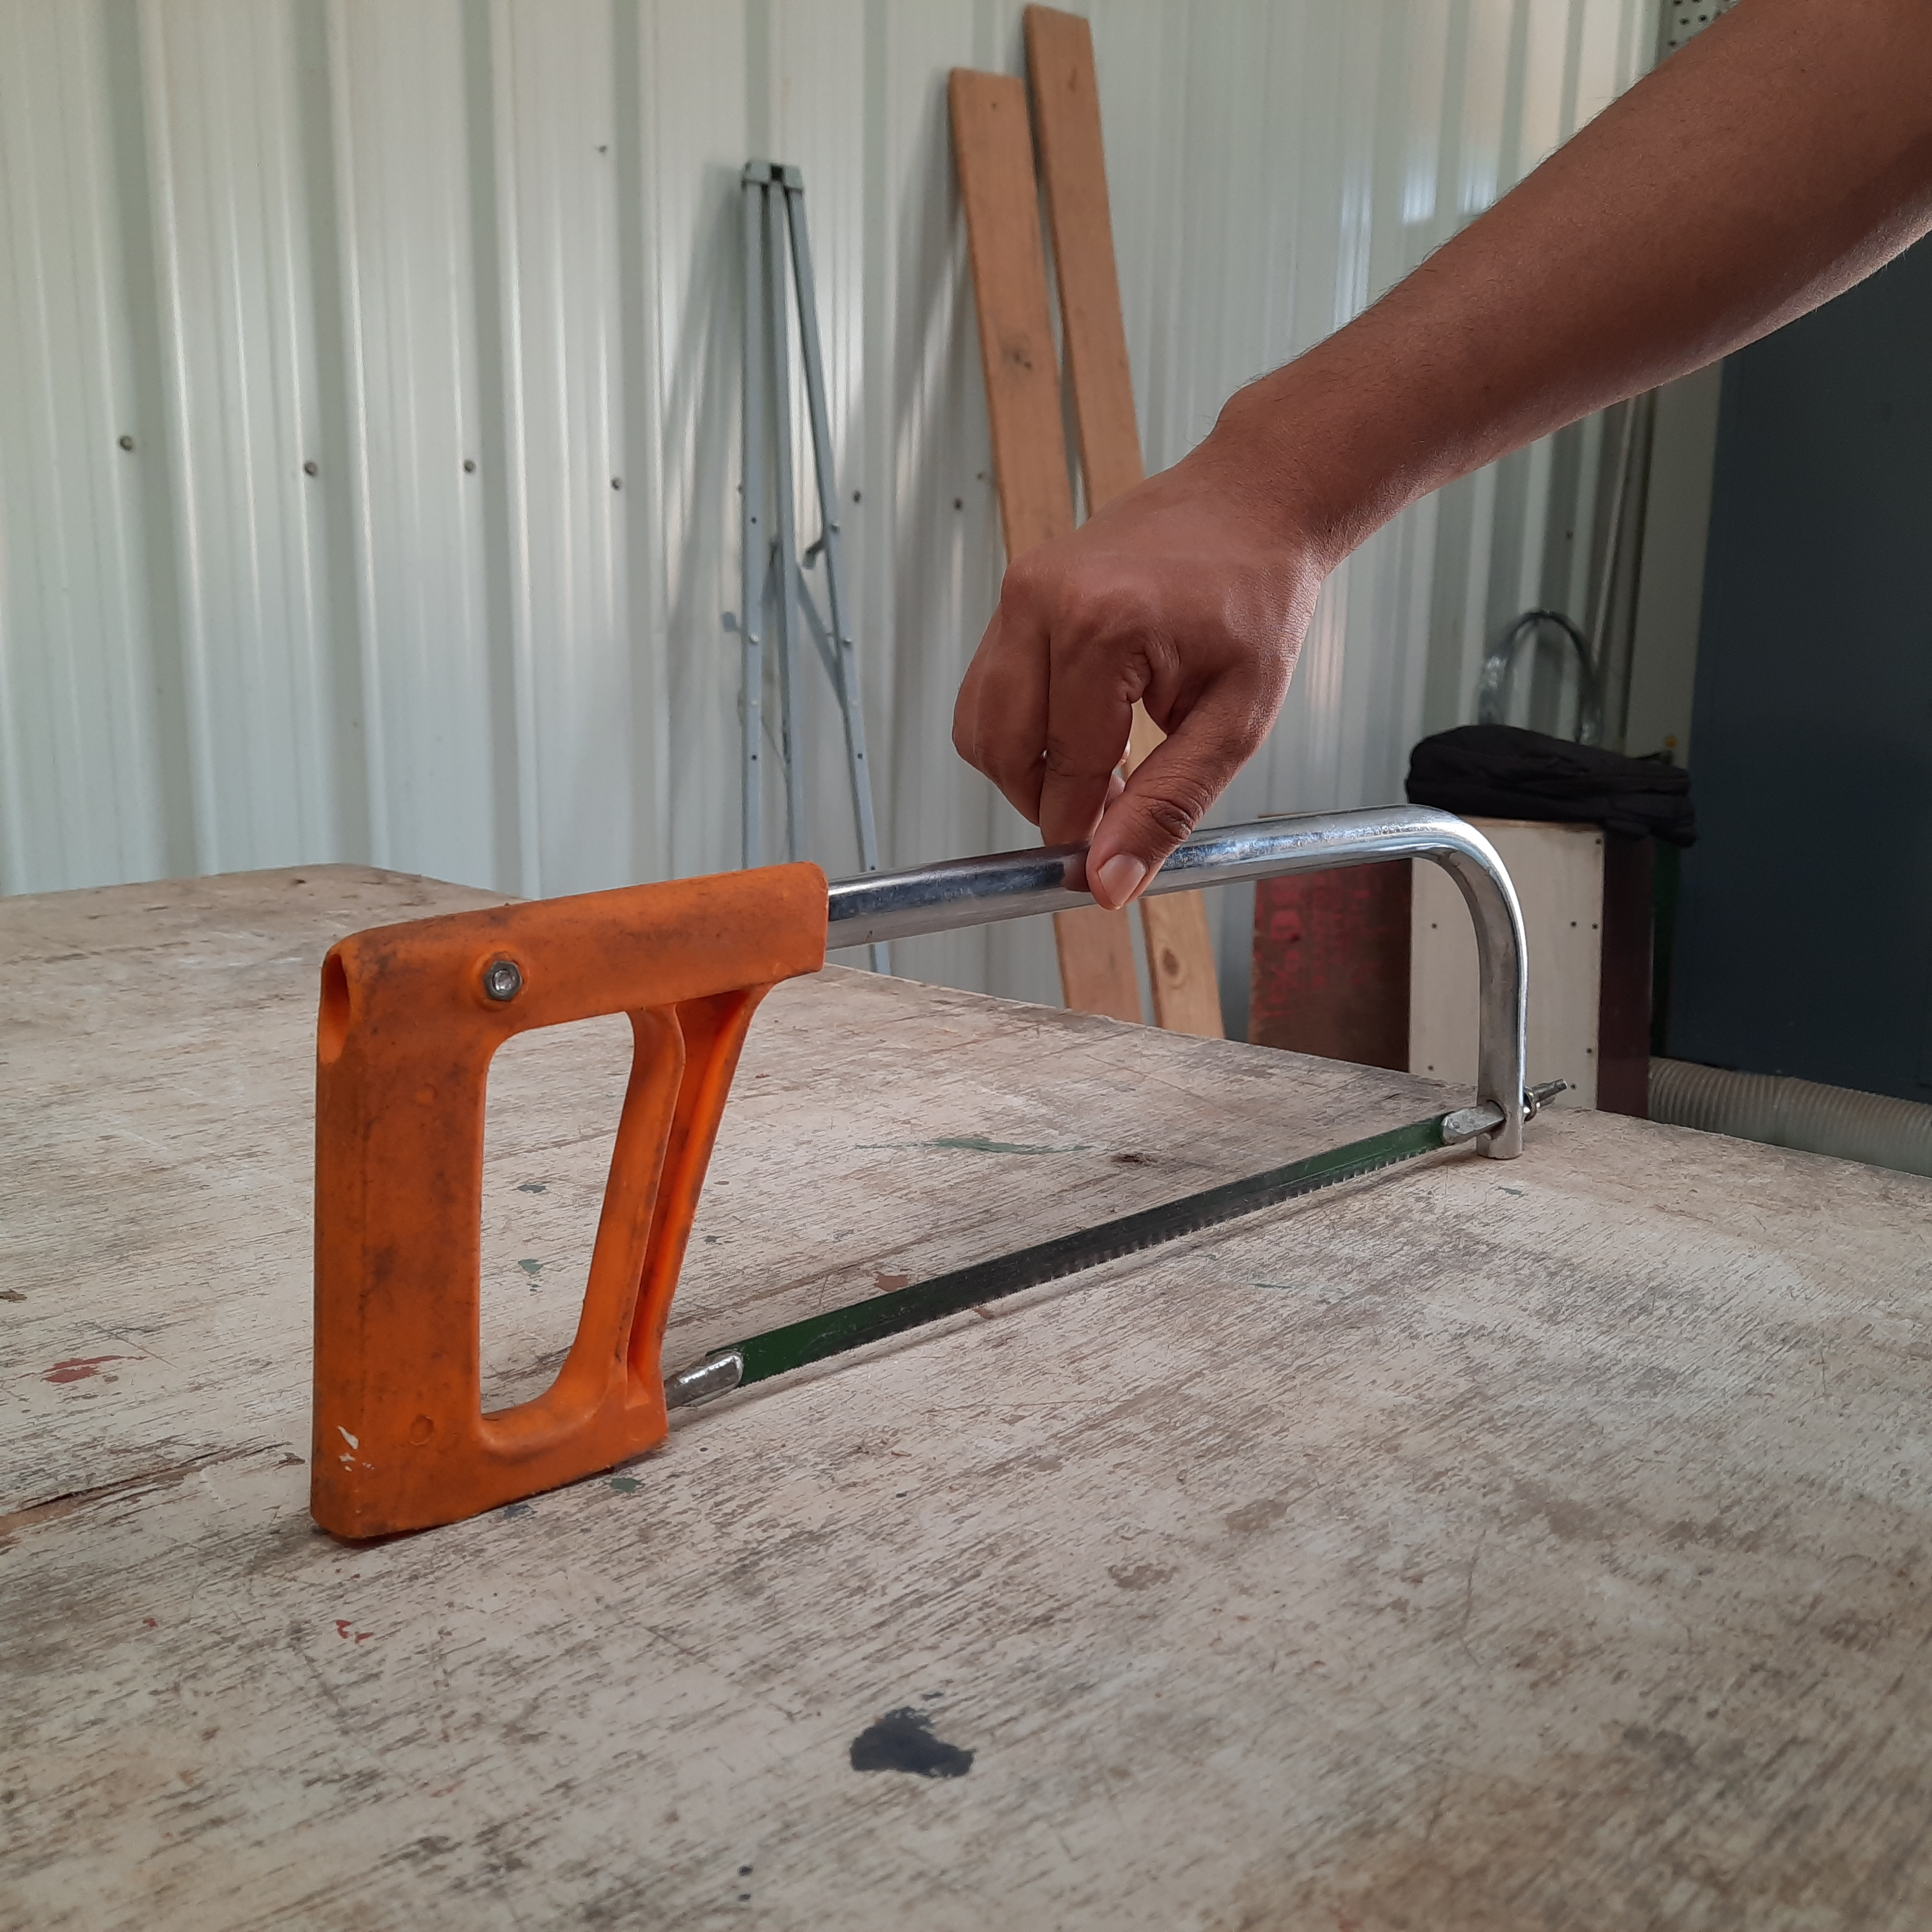Hexaframe: (267, 784, 1605, 1546)
